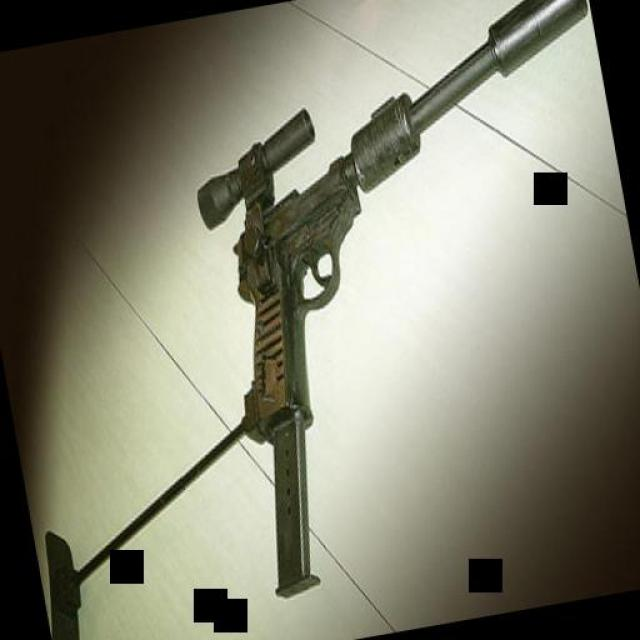gun: (198, 91, 462, 435)
